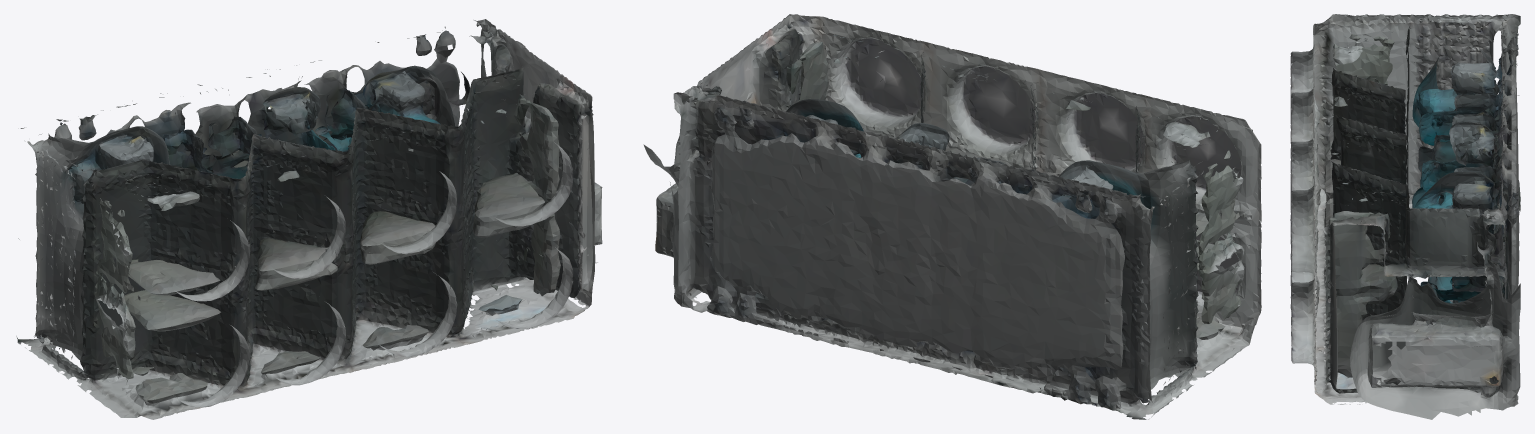
Rendered from chiller_rgb_poisson.glb.
3 views of the same model, side by side, from view 1: azimuth 30°, elevation 25°; view 2: azimuth 150°, elevation 25°; view 3: azimuth 270°, elevation 25° (orthographic). The views are drawn at different scales.
Parts seen in each view (by area): view 1: world; view 2: world; view 3: world.
Boxes of the visible parts, x1,y1,x2,y2 form: world: [16, 19, 602, 419]; world: [643, 14, 1261, 419]; world: [1290, 14, 1520, 419].
Bounding box in the file's own units: 0.9935 × 0.4082 × 0.4444.
